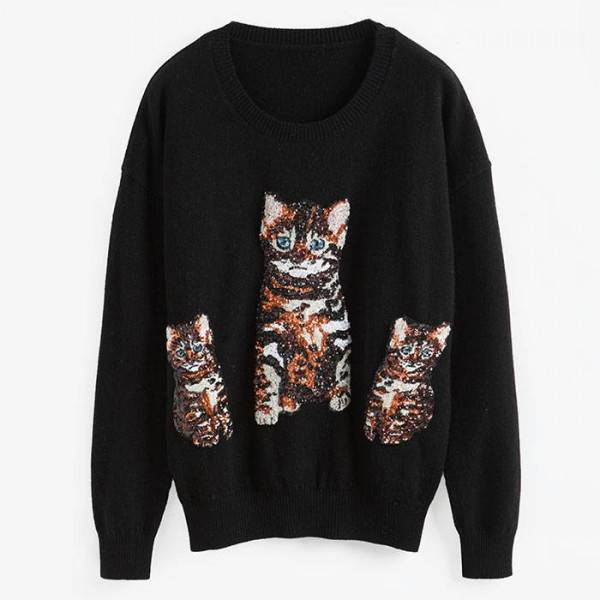cat: (250, 182, 362, 288), (378, 313, 450, 382), (158, 311, 222, 374)
